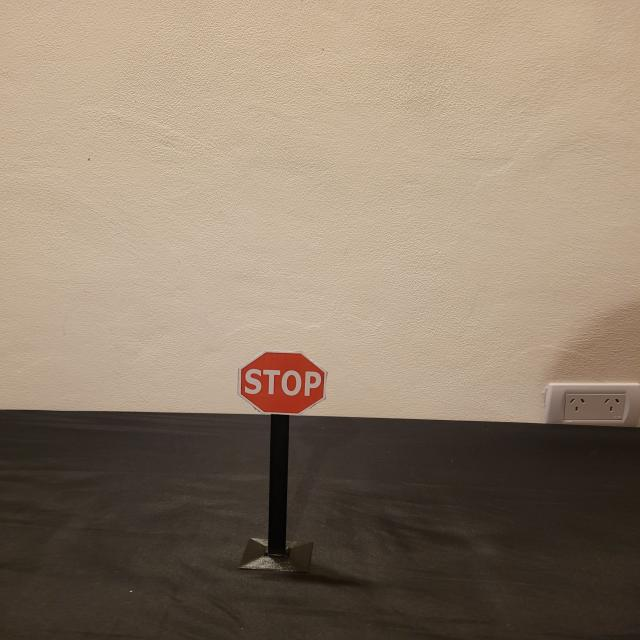stop: (236, 349, 328, 416)
